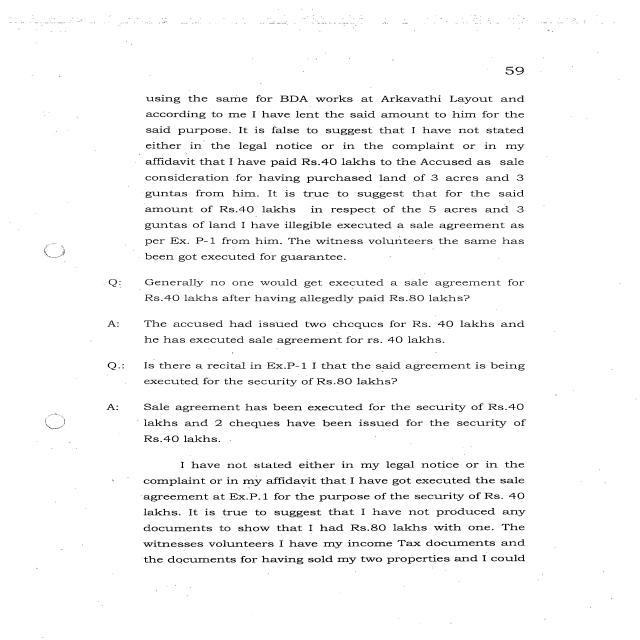page-number: (420, 17, 630, 91)
